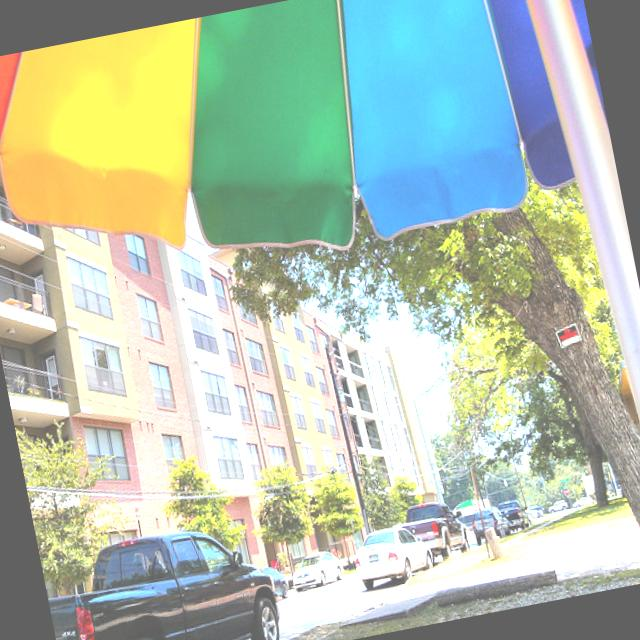Vehicle: (39, 509, 286, 640), (388, 494, 474, 570), (350, 522, 437, 592), (288, 548, 346, 594), (470, 504, 516, 545), (497, 498, 532, 533), (265, 563, 291, 601), (546, 499, 570, 515), (528, 504, 546, 518), (570, 496, 590, 508)
